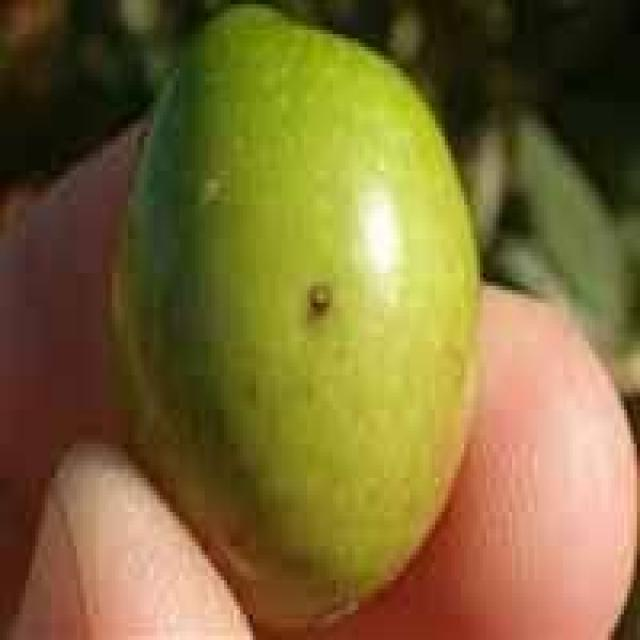Olive Fruit Fly: (118, 4, 477, 623)
